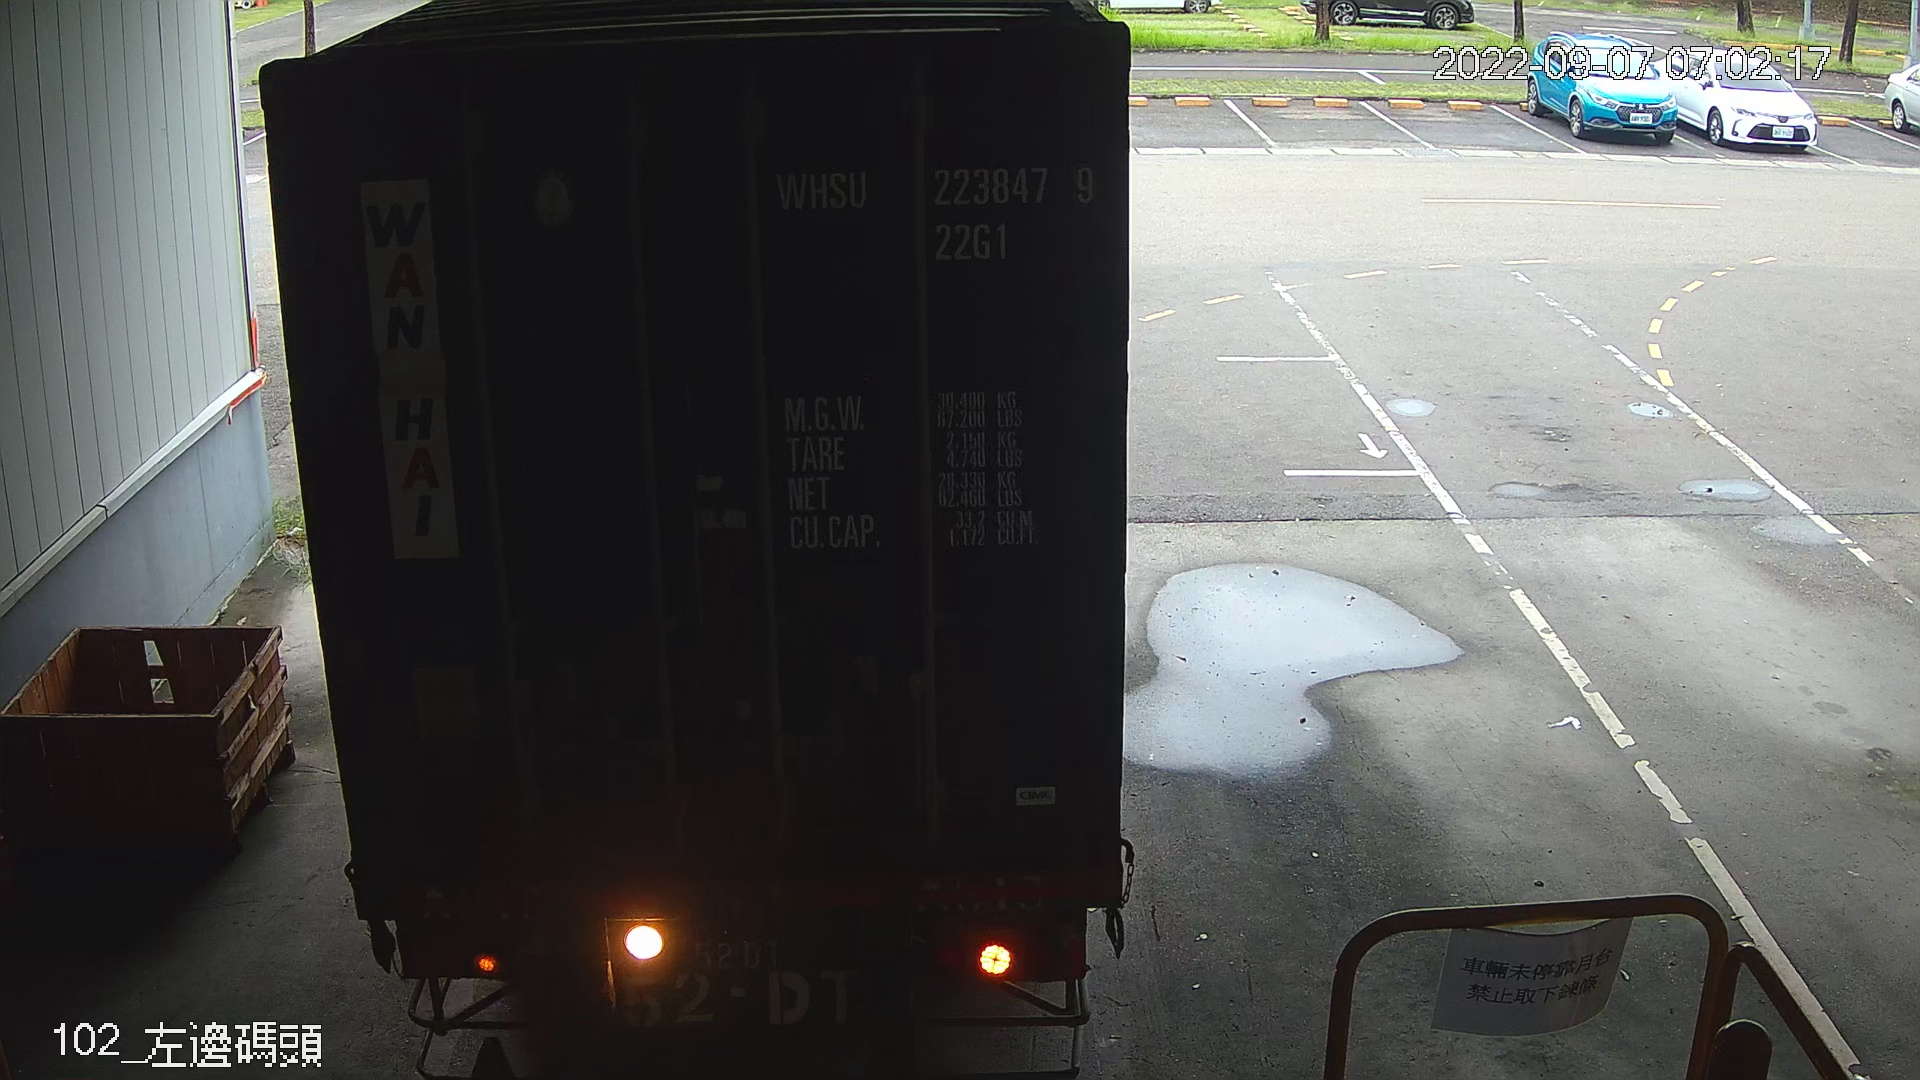container: (764, 156, 1106, 274)
